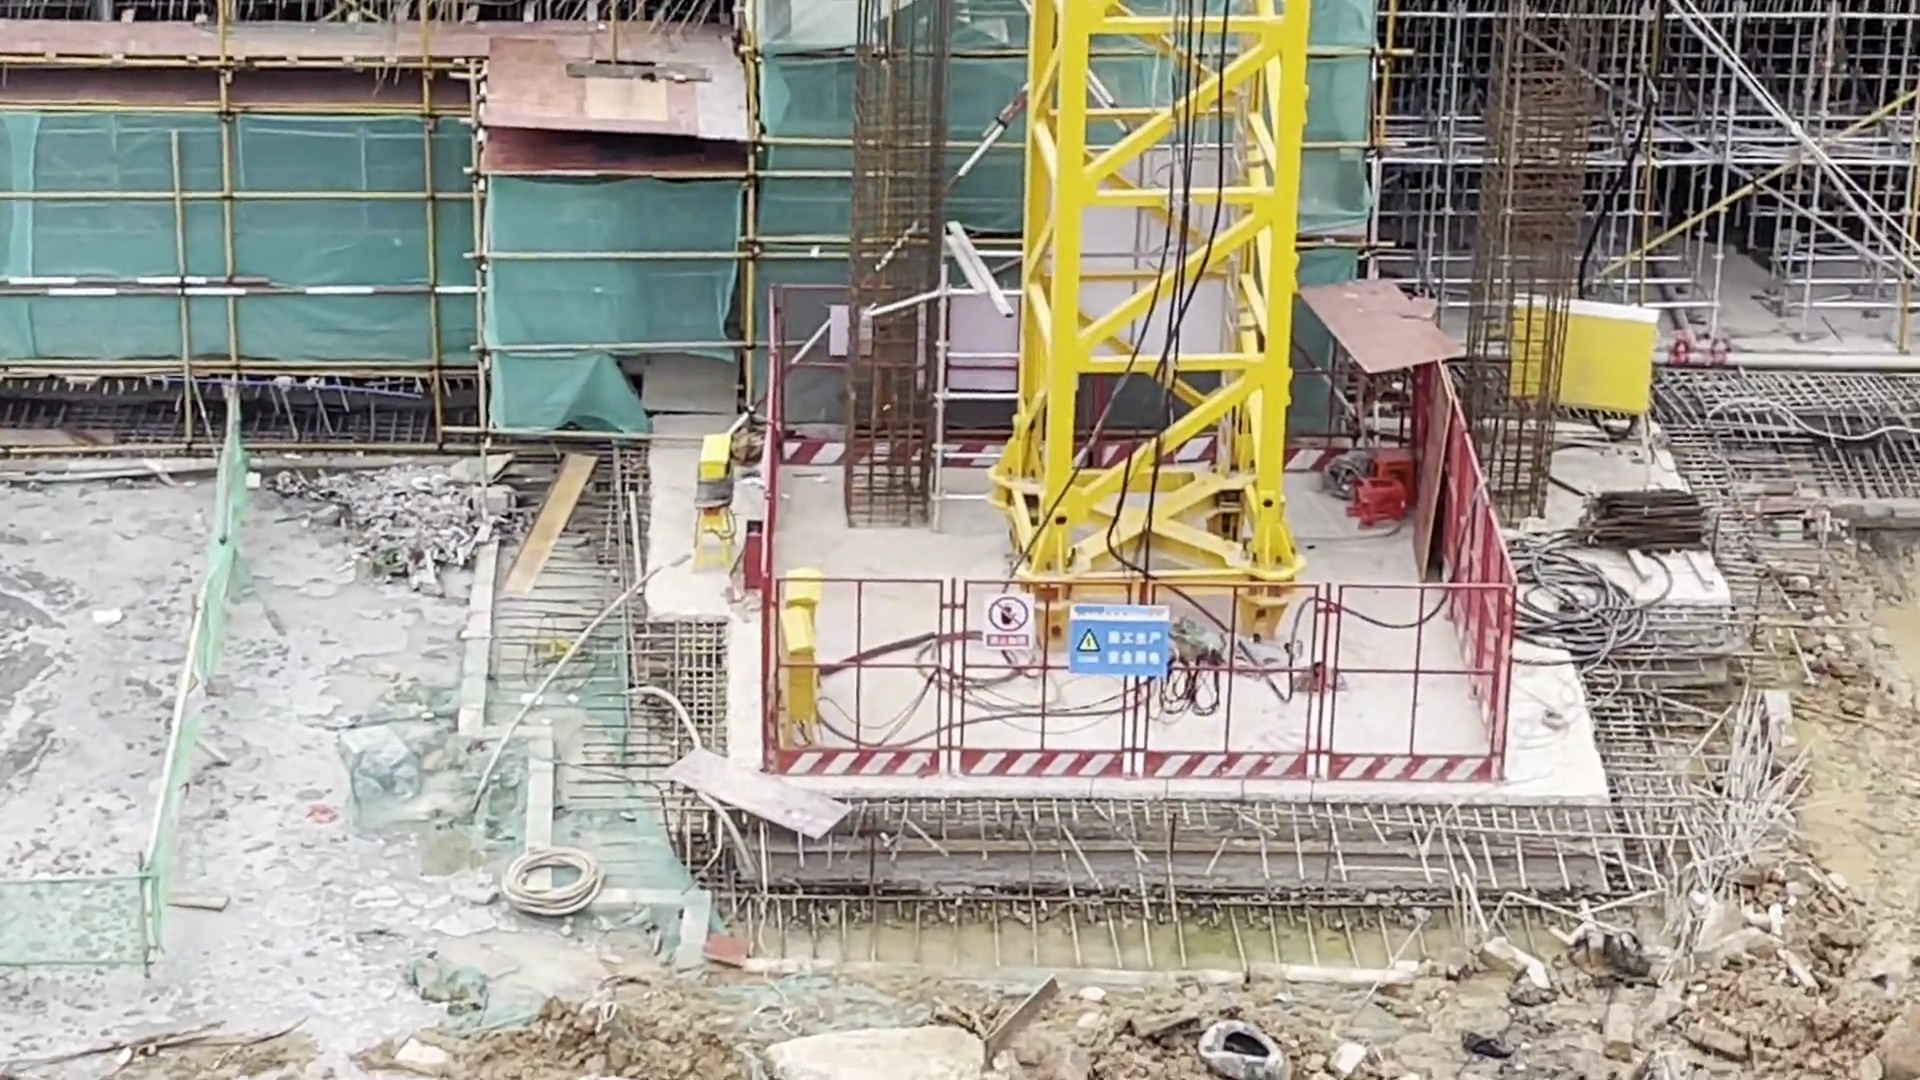ebox: (1505, 289, 1652, 421), (774, 580, 820, 748), (694, 429, 738, 560)
fence: (771, 570, 1505, 785), (1445, 411, 1507, 728)
slogan: (1069, 608, 1164, 675), (986, 595, 1031, 644)
